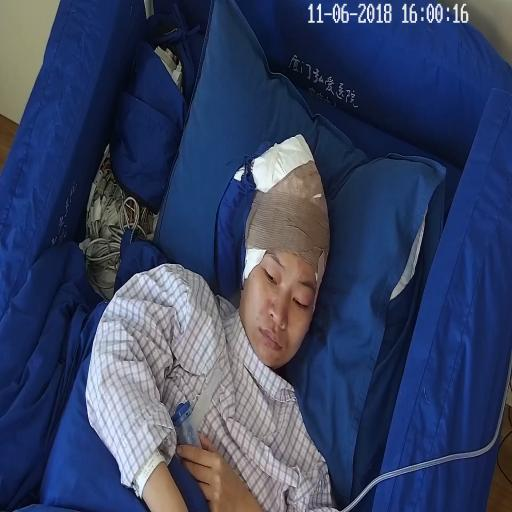Seizure: (233, 131, 332, 374)
